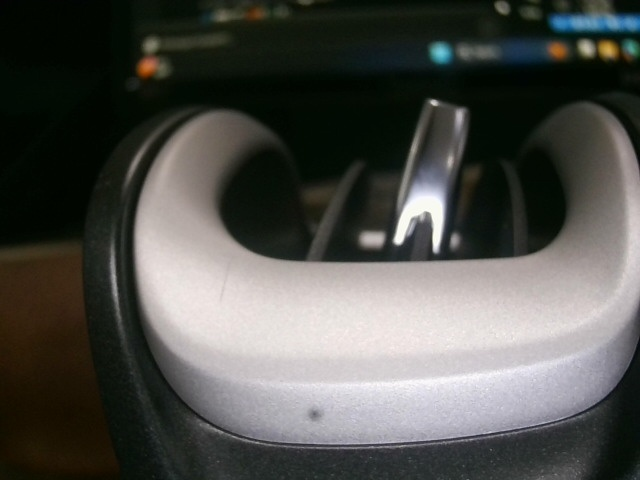NG: (210, 253, 243, 306), (92, 171, 114, 214)
